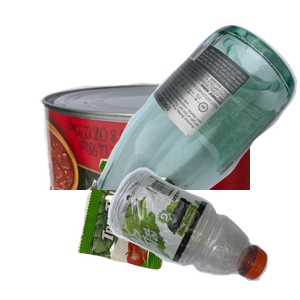glass: (86, 22, 300, 202)
metal: (37, 81, 277, 261)
plastic: (105, 165, 300, 300)
trash: (75, 156, 244, 300)
